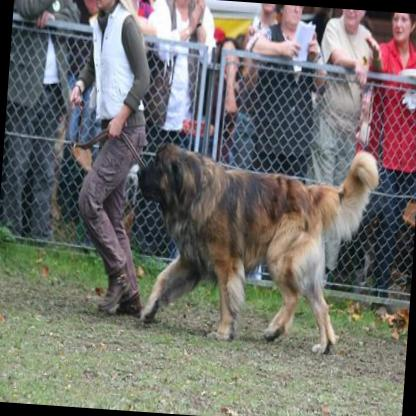Leonberg: (124, 132, 380, 358)
